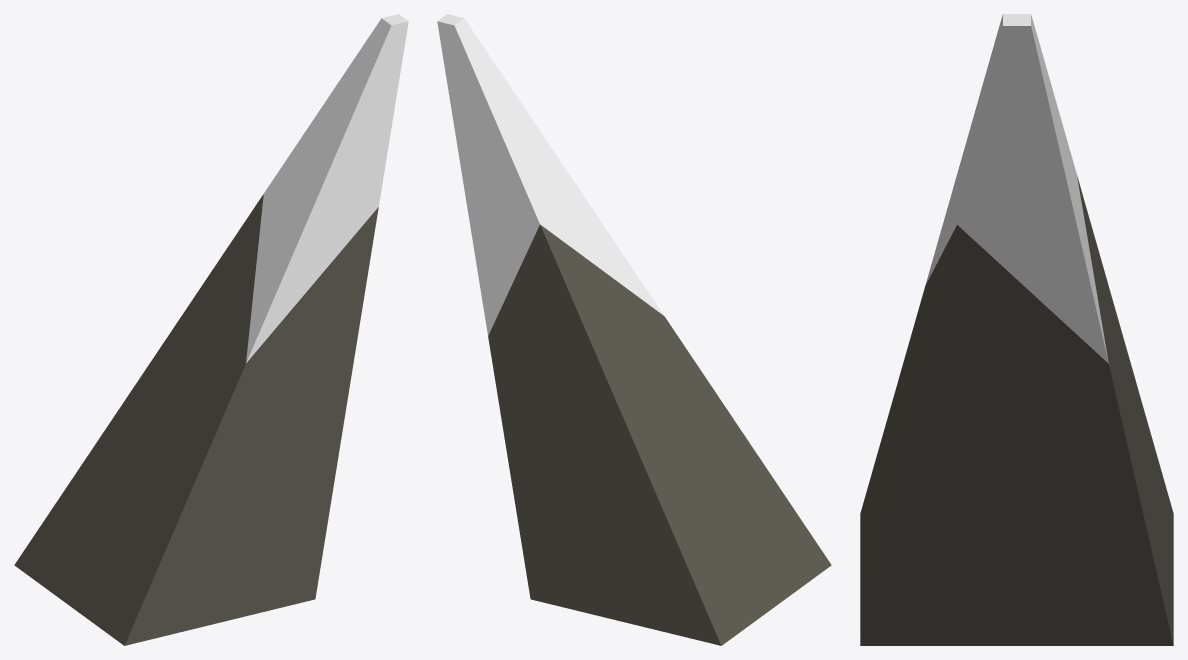
File: WinterRockB_01.fbx
3 renders of one model, left to right at view 1: azimuth 30°, elevation 25°; view 2: azimuth 150°, elevation 25°; view 3: azimuth 270°, elevation 25°, orthographic. The views are drawn at different scales.
Parts seen in each view (by area): view 1: WinterRockB_01; view 2: WinterRockB_01; view 3: WinterRockB_01.
Boxes of the visible parts, x1,y1,x2,y2 form: WinterRockB_01: (14,14,408,645); WinterRockB_01: (437,14,831,645); WinterRockB_01: (860,14,1173,645).
Size of the model in its own units: 0.7475 by 1.08 by 0.4268.
